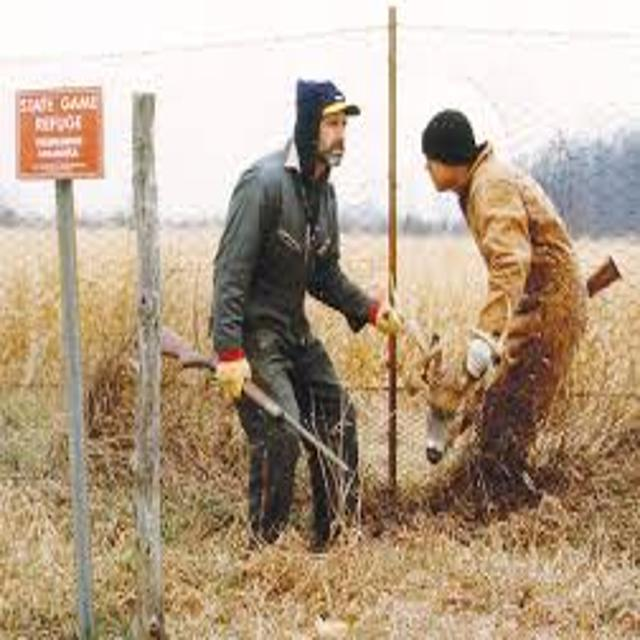gun: (123, 295, 379, 505)
poacher: (165, 51, 439, 581), (368, 95, 629, 531)
